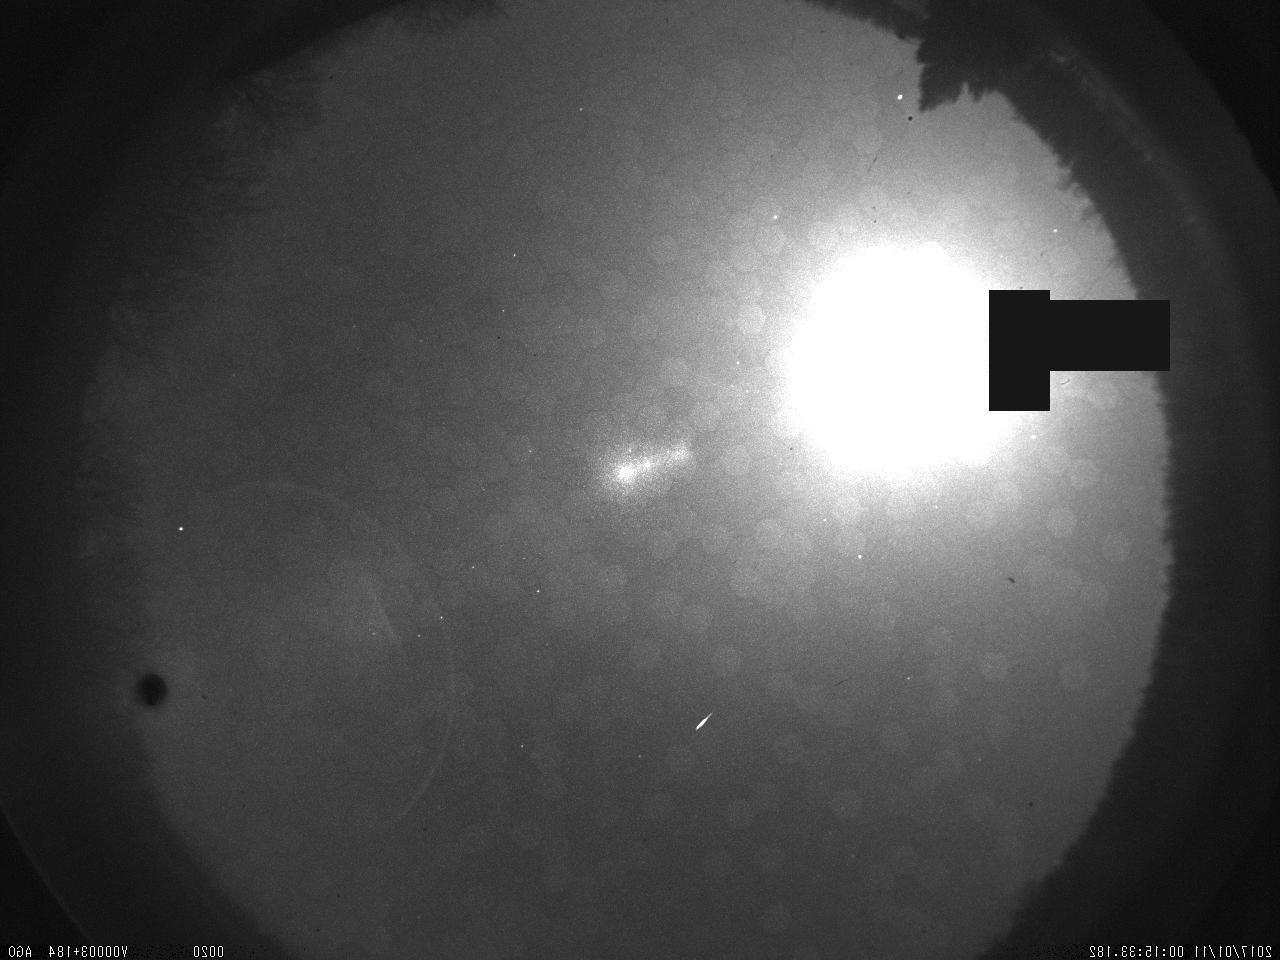meteor: (682, 703, 727, 739)
